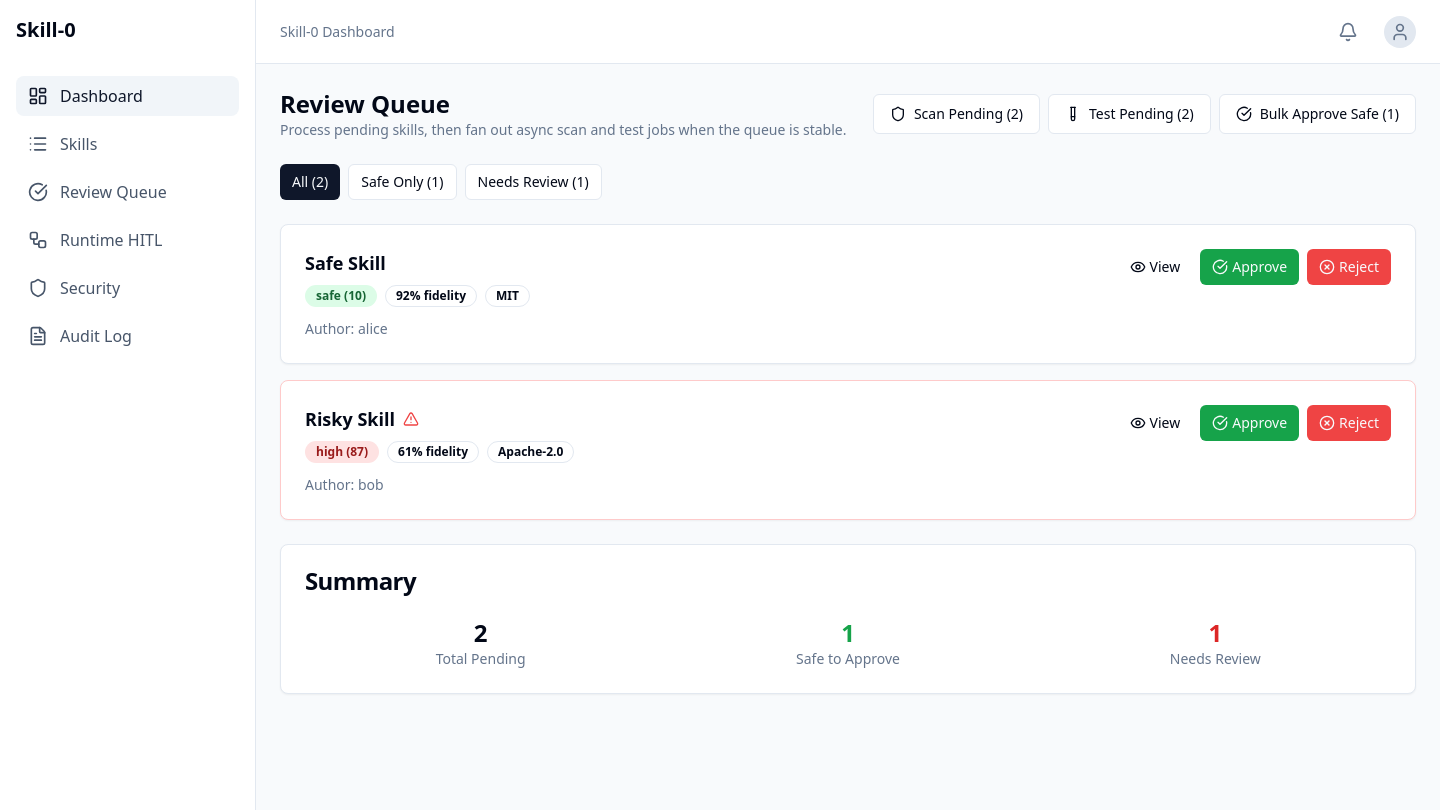
Test: ReviewQueue async action jobs › cancels an active batch job from the review queue
The image size is (1440, 810).
Click the button "Scan Pending (2)" at [956, 114], box [873,94,1040,134]
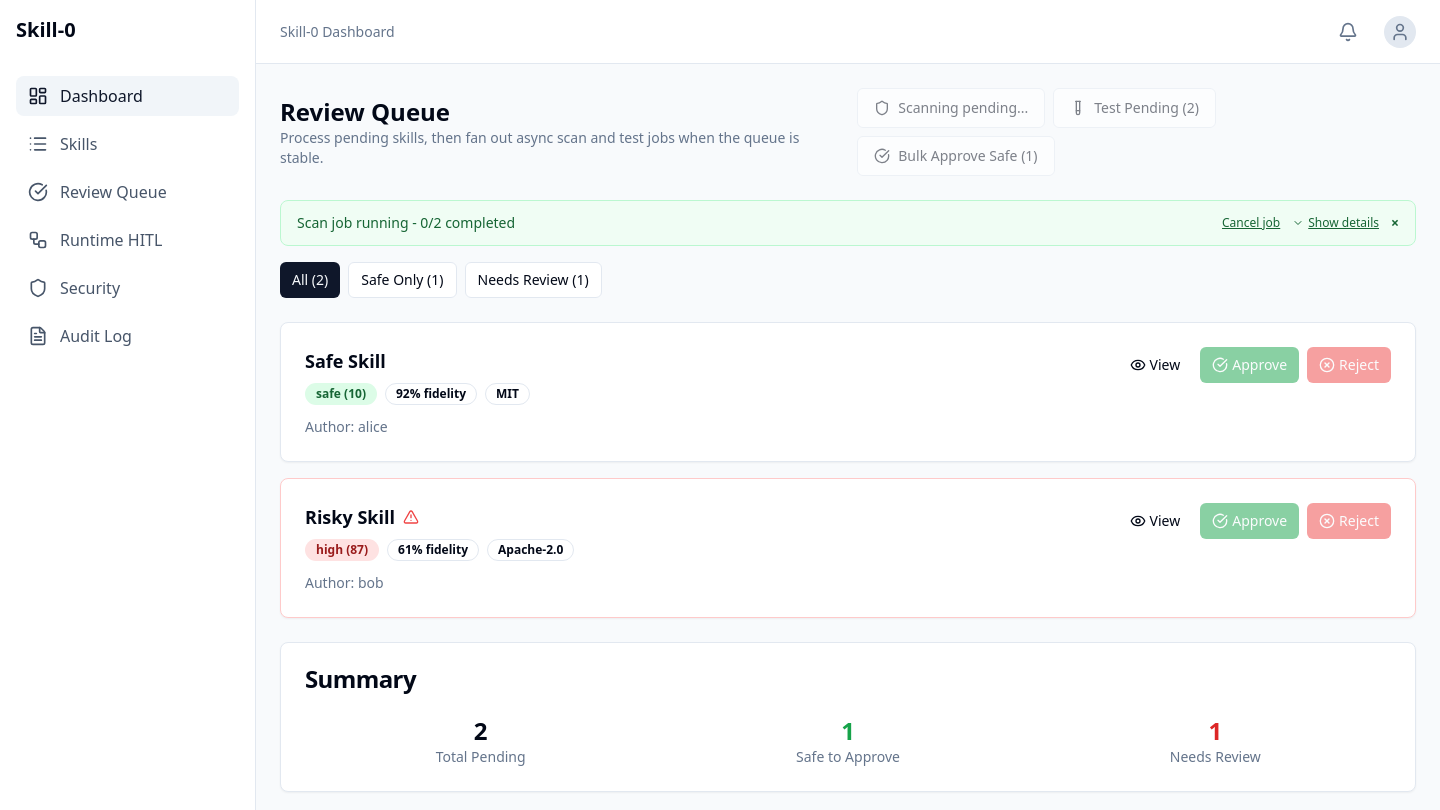
Click the button "Cancel job" at [1251, 223], box [1222,215,1280,231]
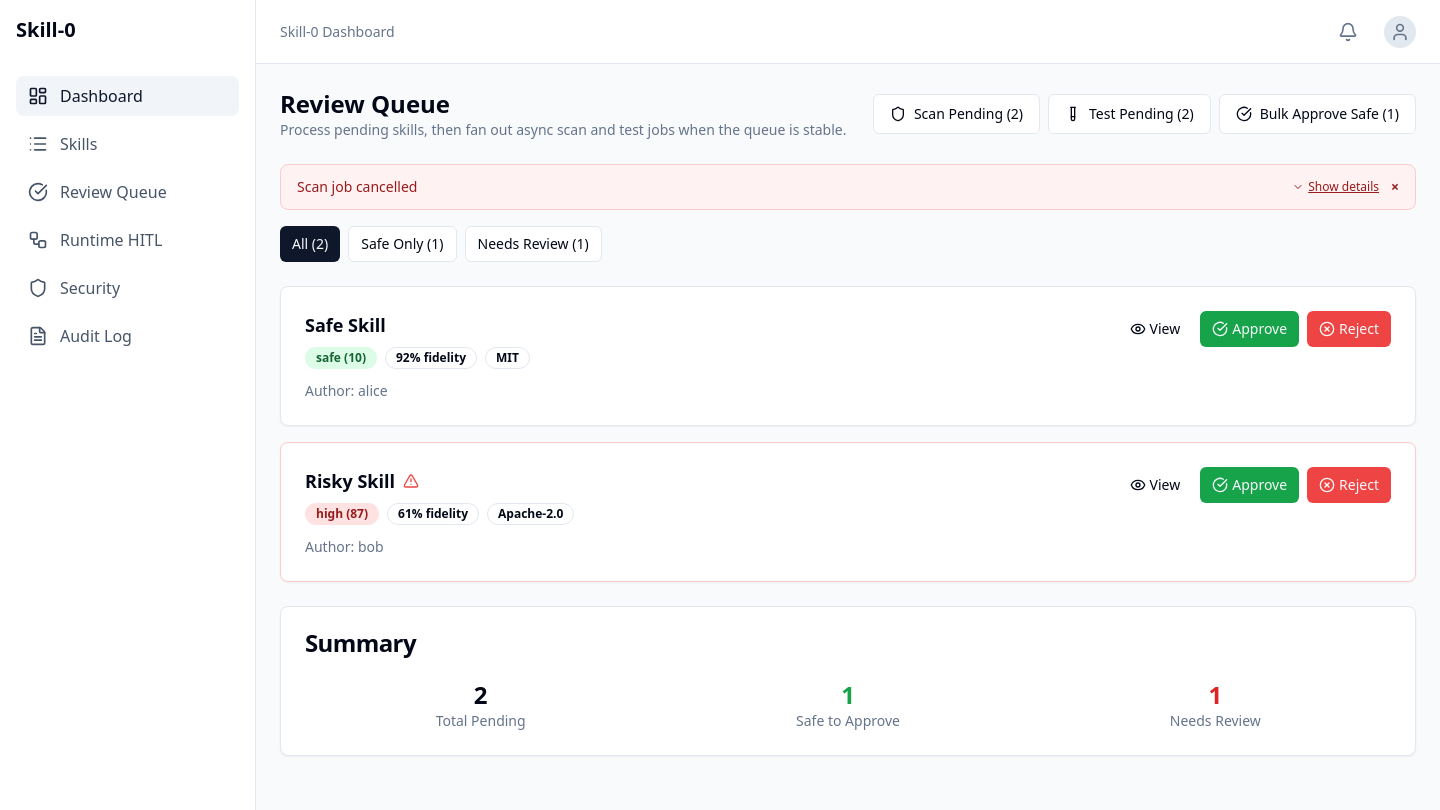
Check: the text "Scan job cancelled" is shown, box [297,177,418,197]
